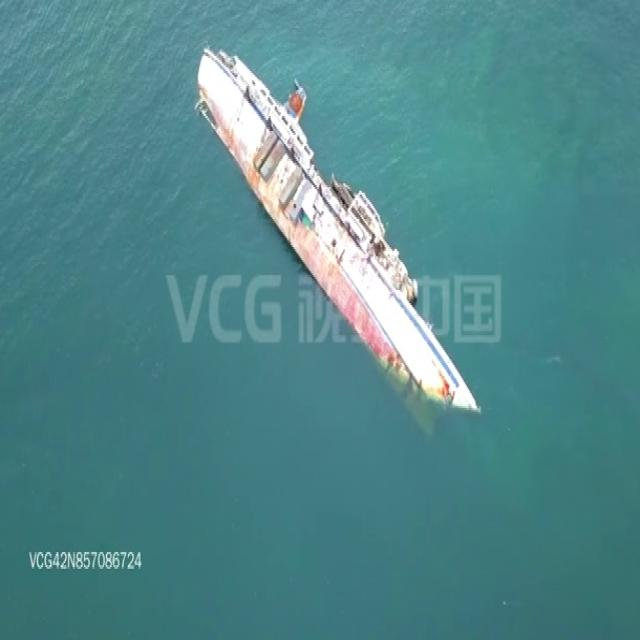cargoship: (200, 34, 484, 416)
